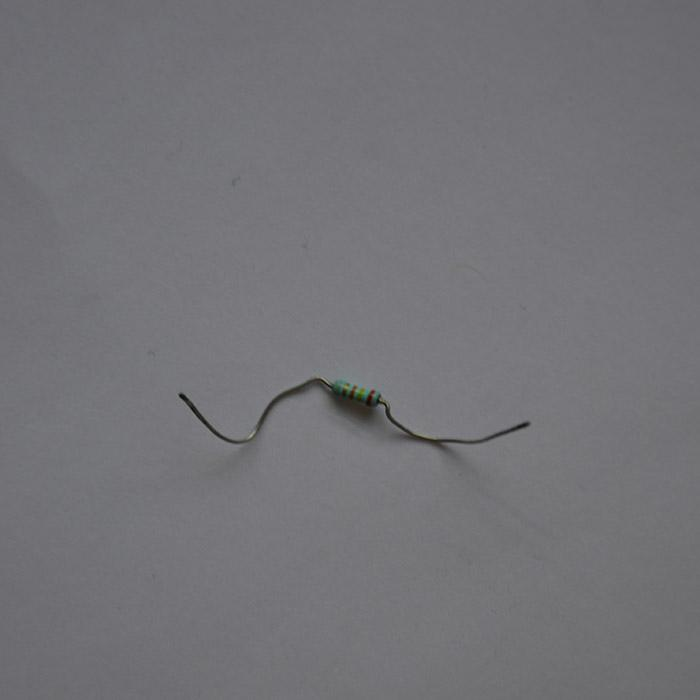resistor: (331, 378, 380, 407)
